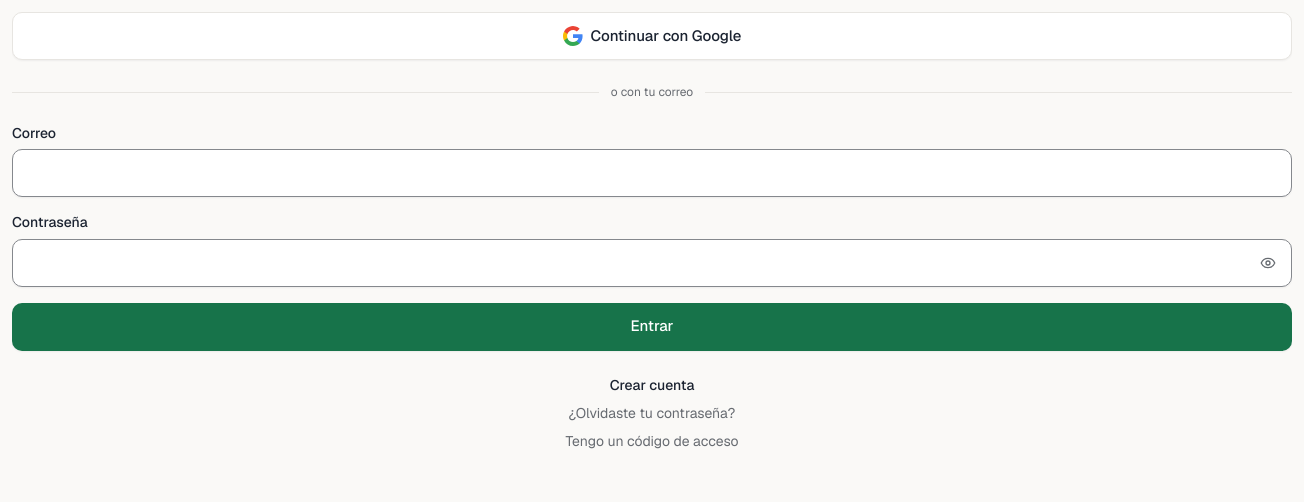
Test: SignIn (spec 0014, AC-1) › checks the email, then shows Supabase's answer in Spanish
Type "ana@" into the field labelled "Correo" at [652, 173], box [12, 149, 1292, 197]
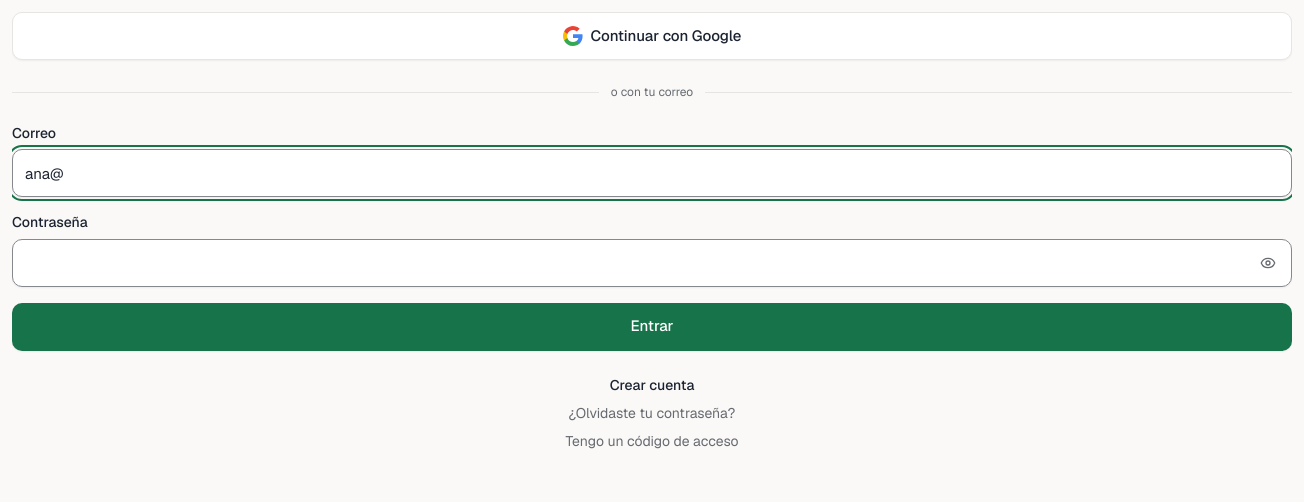
Type "secreta-larga" into the password field labelled "Contraseña" at [652, 262], box [12, 238, 1292, 286]
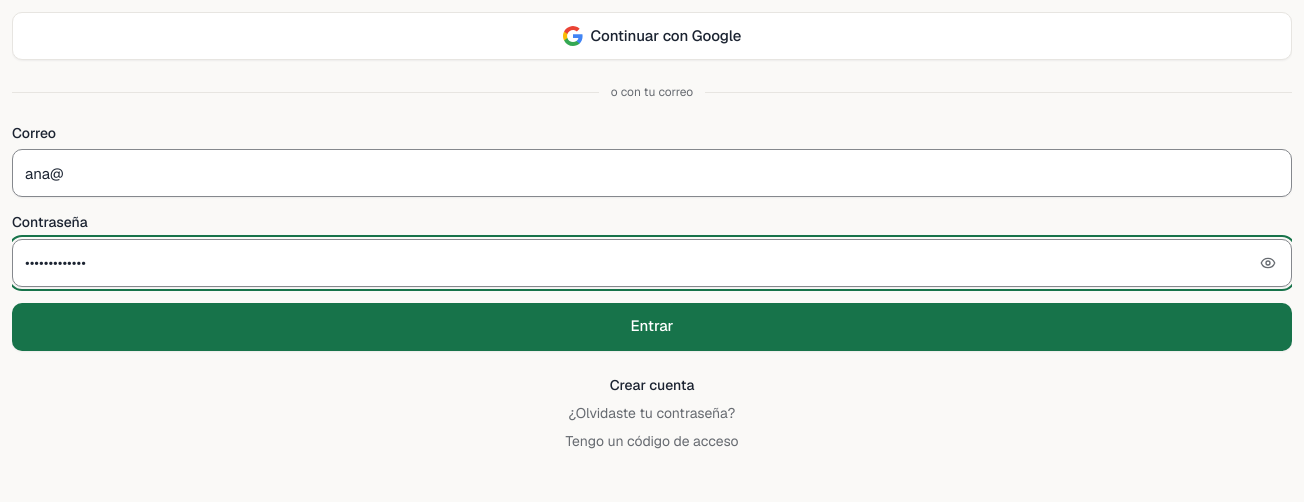
Click the button "Entrar" at [652, 326], box [12, 302, 1292, 350]
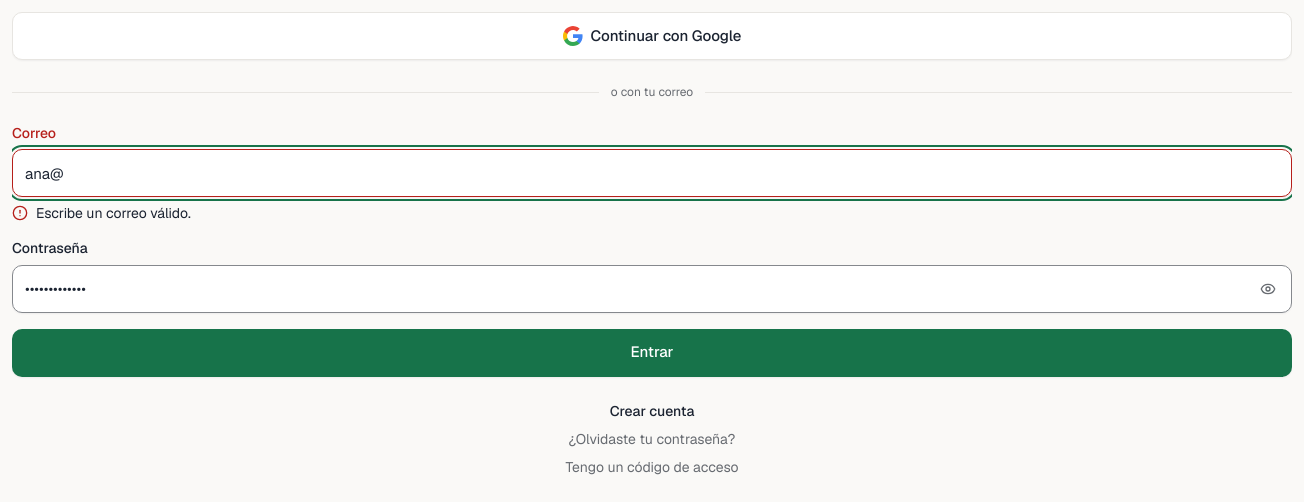
Type "example.com" into the field labelled "Correo" at [652, 173], box [12, 149, 1292, 197]
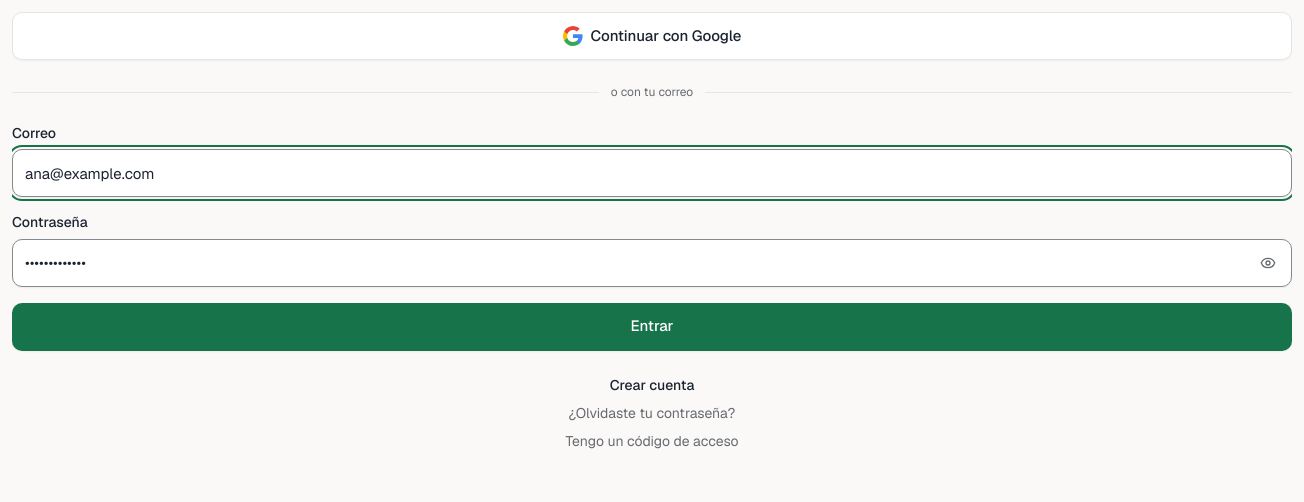
Click the button "Entrar" at [652, 326], box [12, 302, 1292, 350]
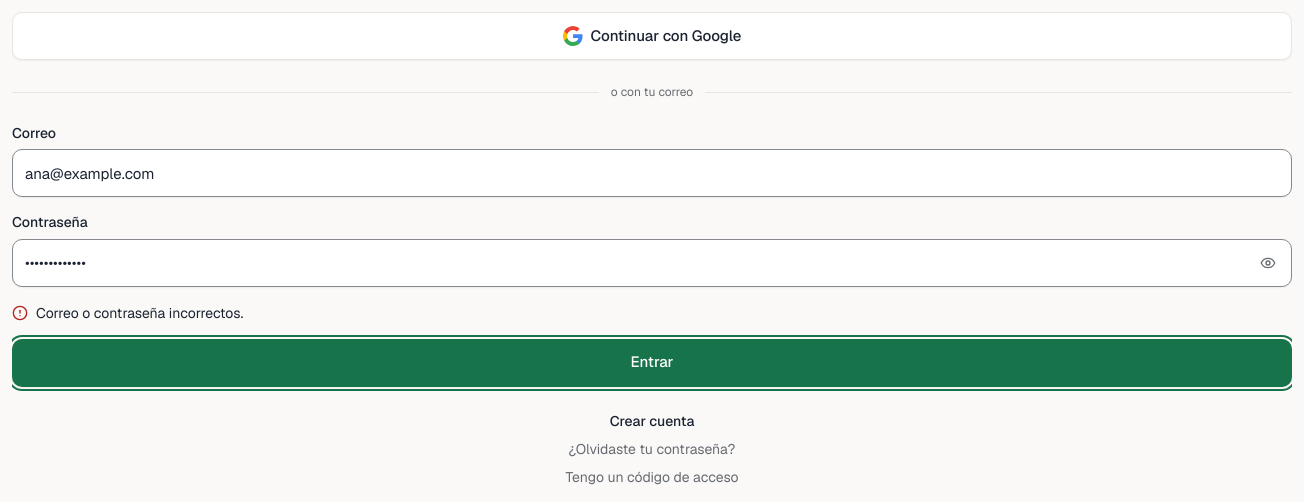
Result: the message reads "Correo o contraseña incorrectos." at [36, 304, 243, 322]
